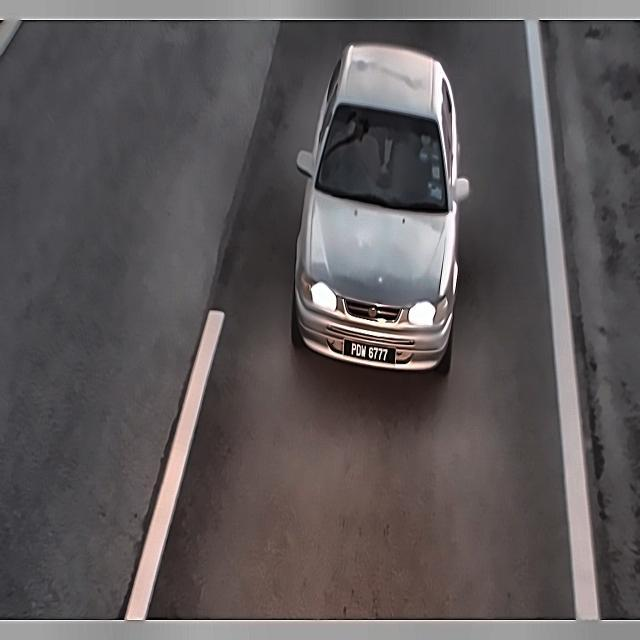car: (342, 331, 394, 368)
